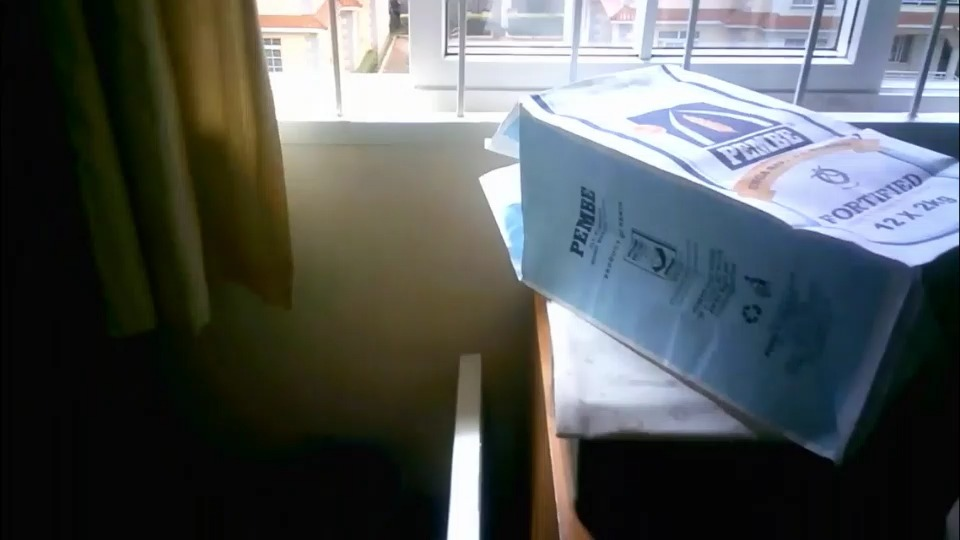wheat_flour_blue_label: (487, 64, 956, 461)
